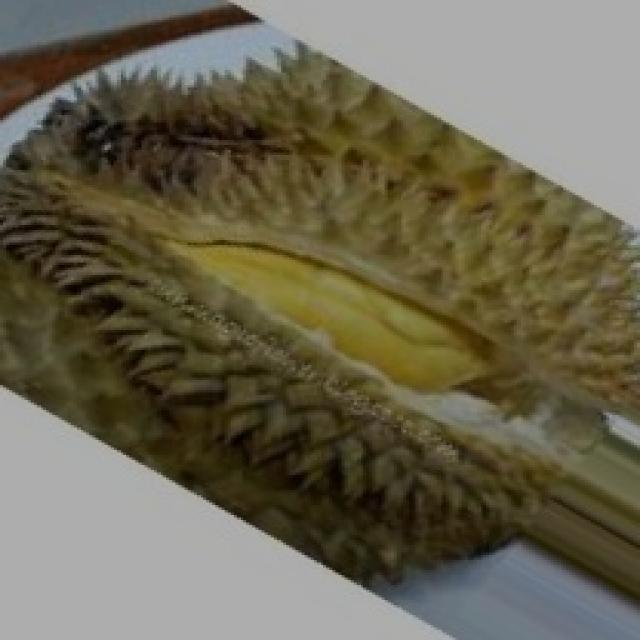fruit: (0, 8, 351, 508), (243, 262, 634, 638)
